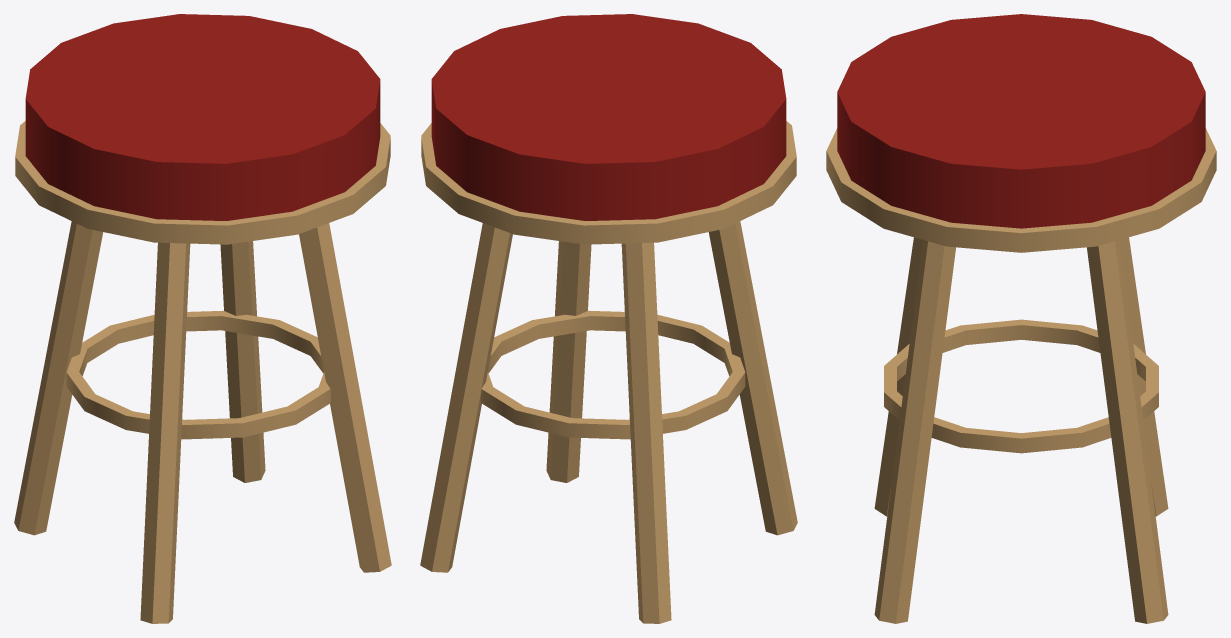
The model's file is hospitality.pub.stool.glb.
The picture shows the model from 3 angles, left to right: view 1: azimuth 30°, elevation 25°; view 2: azimuth 150°, elevation 25°; view 3: azimuth 270°, elevation 25°; orthographic projection. The views are drawn at different scales.
Visible parts, largest first — view 1: main__fabric_red, main__glulam; view 2: main__fabric_red, main__glulam; view 3: main__fabric_red, main__glulam.
Part boxes in pixels (x1=…): main__fabric_red: x1=25, y1=14, x2=380, y2=220; main__glulam: x1=14, y1=121, x2=391, y2=623; main__fabric_red: x1=431, y1=14, x2=786, y2=220; main__glulam: x1=420, y1=121, x2=797, y2=623; main__fabric_red: x1=837, y1=14, x2=1205, y2=228; main__glulam: x1=826, y1=128, x2=1216, y2=623.
Bounding box in the file's own units: 0.36 × 0.4828 × 0.36.
